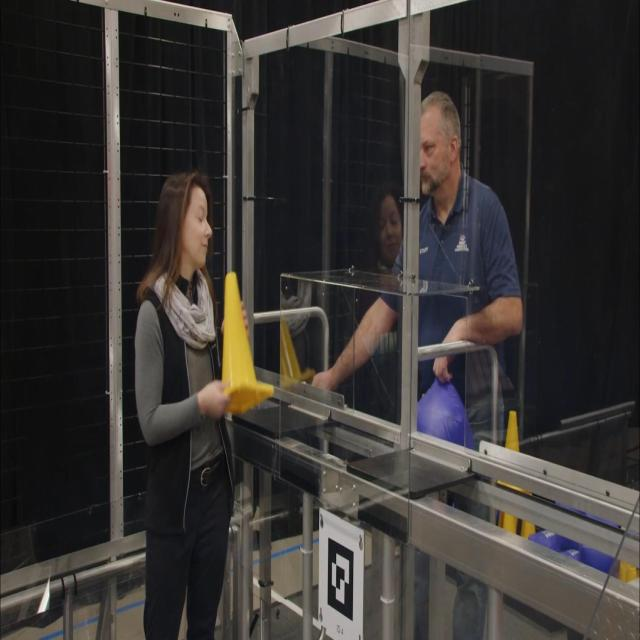frc_cone: (214, 270, 275, 413), (504, 410, 520, 454), (498, 509, 520, 535), (519, 512, 536, 540)
frc_cube: (416, 372, 469, 447), (579, 541, 617, 569), (529, 530, 564, 552), (558, 546, 580, 562)
